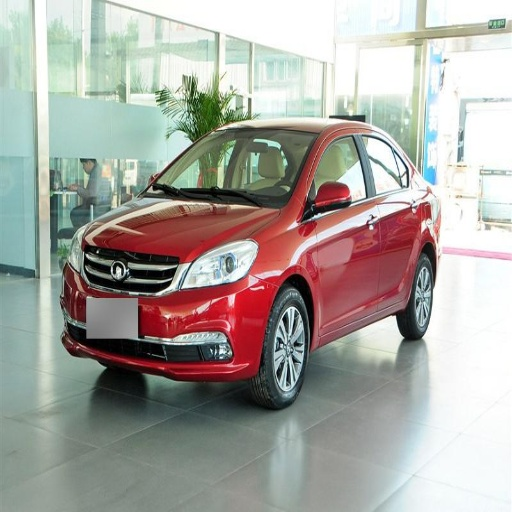front_bumper: (63, 237, 277, 379)
front_glass: (144, 129, 318, 207)
front_left_door: (307, 130, 380, 326)
